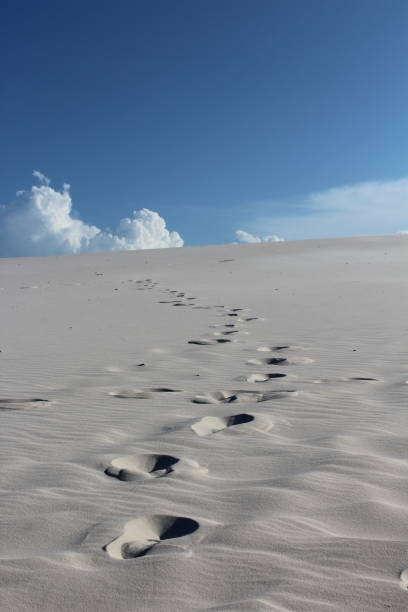human_foot_print: (103, 514, 199, 559), (104, 453, 207, 481), (191, 413, 254, 435), (192, 390, 297, 403), (109, 386, 181, 398), (0, 398, 49, 409)
